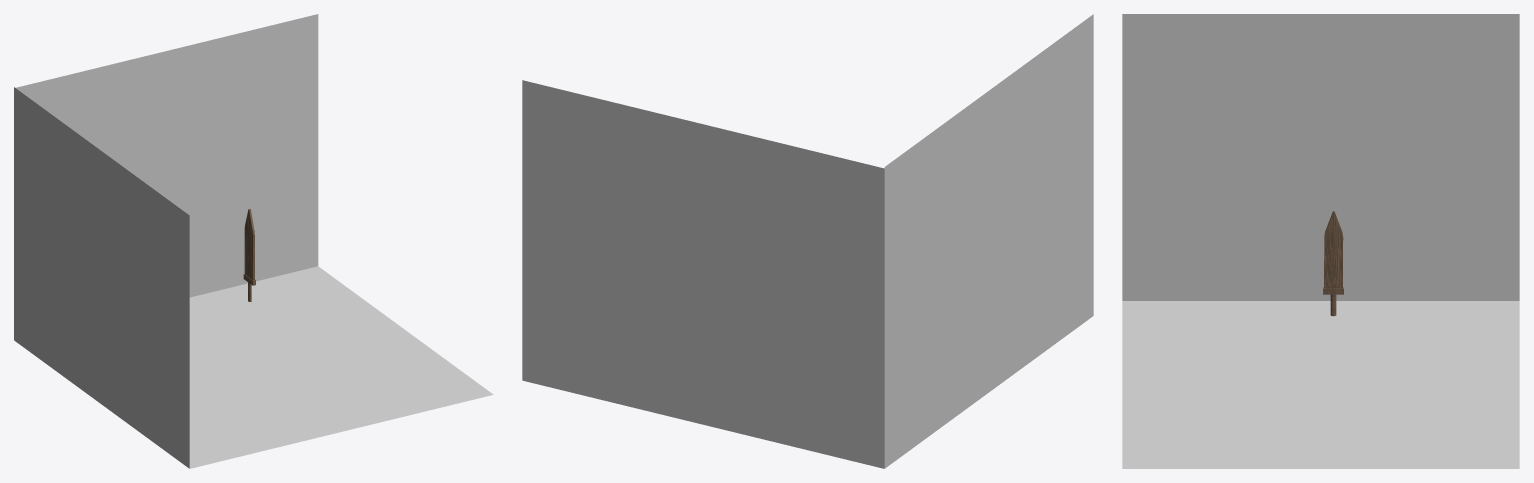
The model's file is 木の剣.fbx.
3 renders of one model, left to right at view 1: azimuth 30°, elevation 25°; view 2: azimuth 150°, elevation 25°; view 3: azimuth 270°, elevation 25°, orthographic. The views are drawn at different scales.
Parts seen in each view (by area): view 1: 平面, 立方体.001; view 2: 平面; view 3: 平面, 立方体.001.
Part boxes in pixels (x1,y1,x2,y2): 平面: (14, 14, 493, 468); 立方体.001: (244, 209, 254, 279); 平面: (522, 14, 1093, 468); 平面: (1122, 14, 1519, 468); 立方体.001: (1324, 211, 1343, 288).
Bounding box in the file's own units: 2624 × 2089 × 2624.
Materials: 4 (3 with a texture image).
